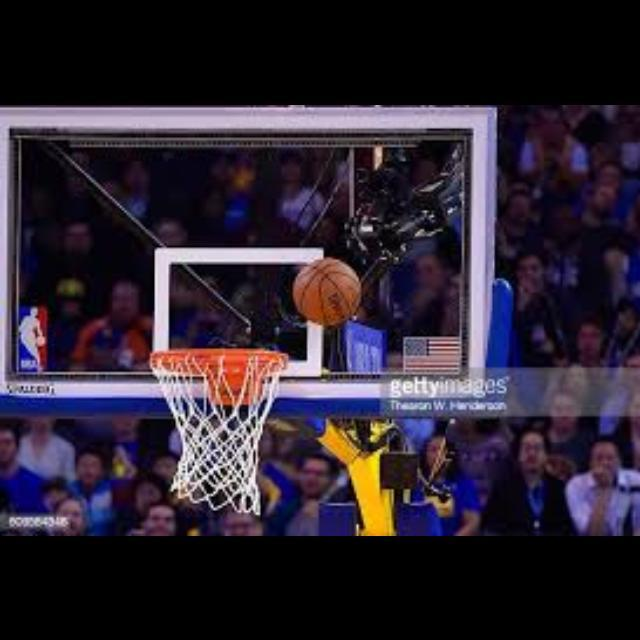basketball: (293, 258, 361, 322)
rim: (151, 349, 285, 515)
